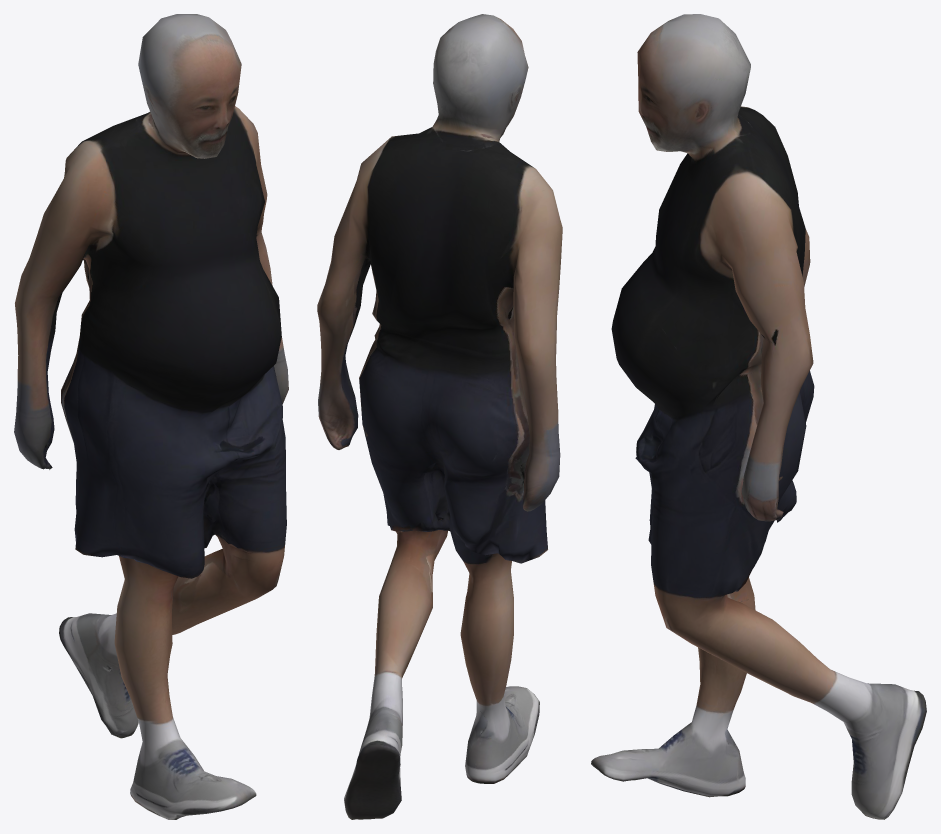
Rendered from Man_Walking_0331011914_texture.glb.
The picture shows the model from 3 angles, left to right: view 1: azimuth 30°, elevation 25°; view 2: azimuth 150°, elevation 25°; view 3: azimuth 270°, elevation 25°; orthographic projection. The views are drawn at different scales.
Visible parts, largest first — view 1: Mesh0; view 2: Mesh0; view 3: Mesh0.
Boxes of the visible parts, x1,y1,x2,y2 form: Mesh0: (14,14,288,819); Mesh0: (317,14,562,819); Mesh0: (591,14,926,819).
Size of the model in its own units: 0.6878 by 2 by 0.7794.
1 material, 1 textured.
